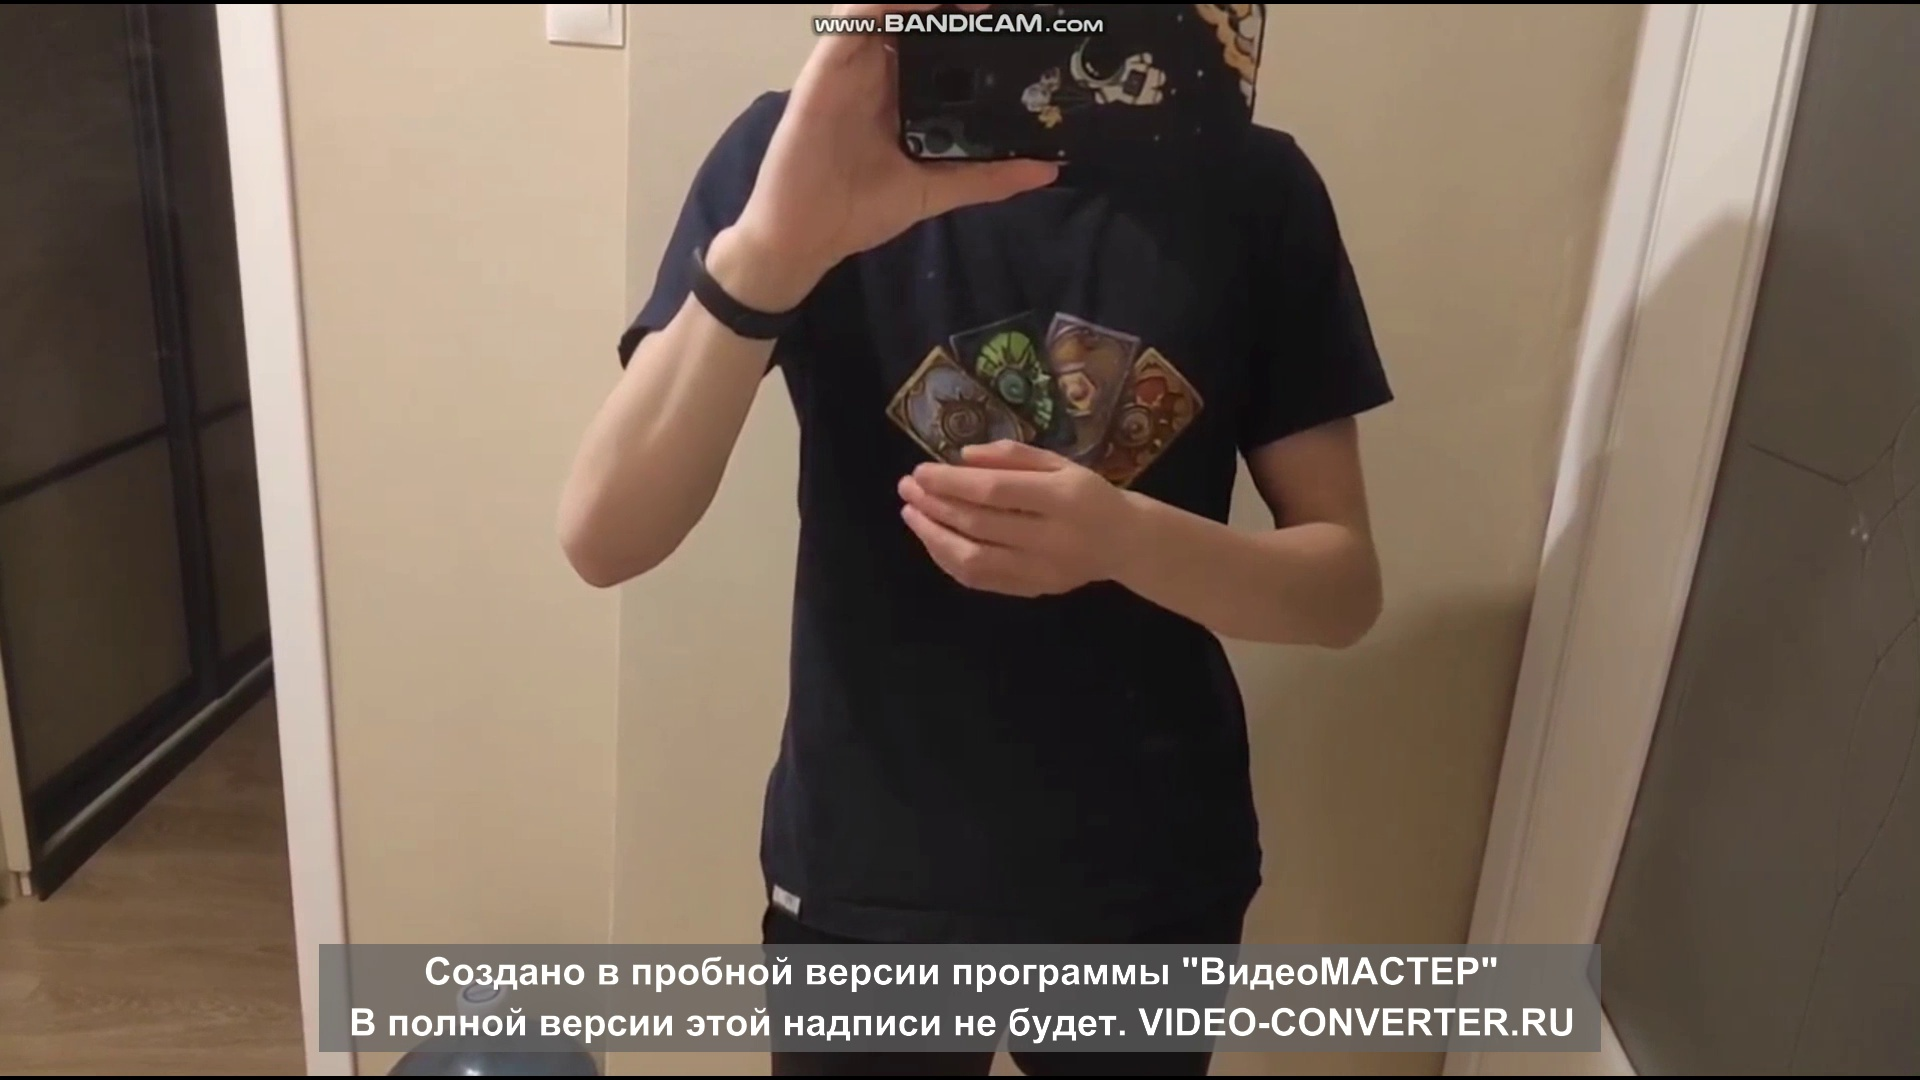Кисть: (897, 436, 1121, 600)
